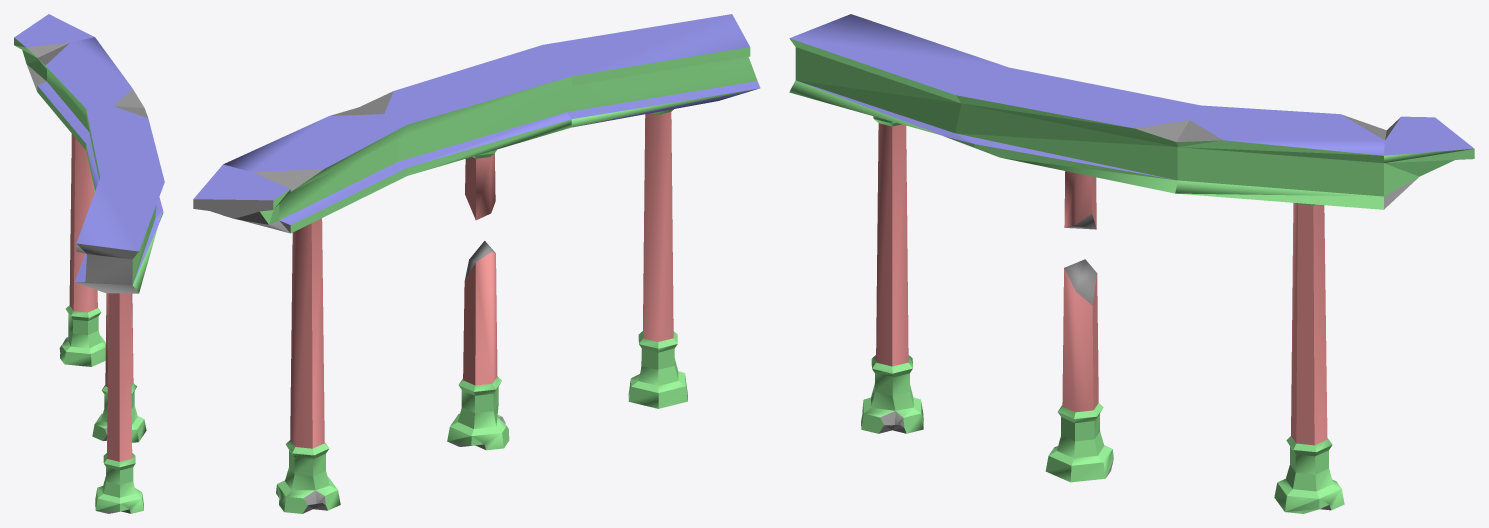
File: world_obj23.gltf
3 renders of one model, left to right at view 1: azimuth 30°, elevation 25°; view 2: azimuth 150°, elevation 25°; view 3: azimuth 270°, elevation 25°, orthographic. The views are drawn at different scales.
Parts seen in each view (by area): view 1: world_obj23; view 2: world_obj23; view 3: world_obj23.
Boxes of the visible parts, x1,y1,x2,y2 form: world_obj23: (14, 14, 164, 513); world_obj23: (193, 14, 760, 513); world_obj23: (789, 14, 1474, 513).
Size of the model in its own units: 3.06 by 3.65 by 6.11.
